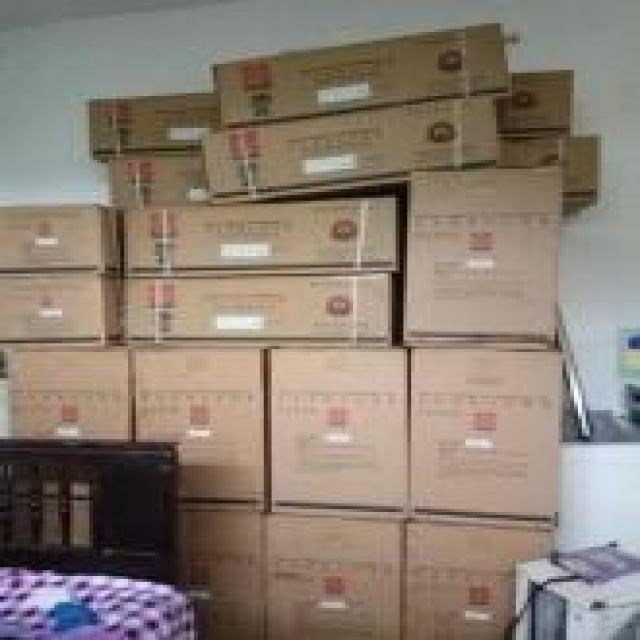box: (198, 91, 501, 203), (409, 156, 568, 350), (218, 17, 514, 116), (406, 338, 564, 522), (263, 339, 413, 526), (119, 331, 264, 512), (112, 263, 402, 350), (115, 196, 398, 275), (259, 502, 416, 640), (403, 522, 562, 640), (0, 332, 132, 452), (0, 267, 126, 350), (0, 197, 121, 271)
